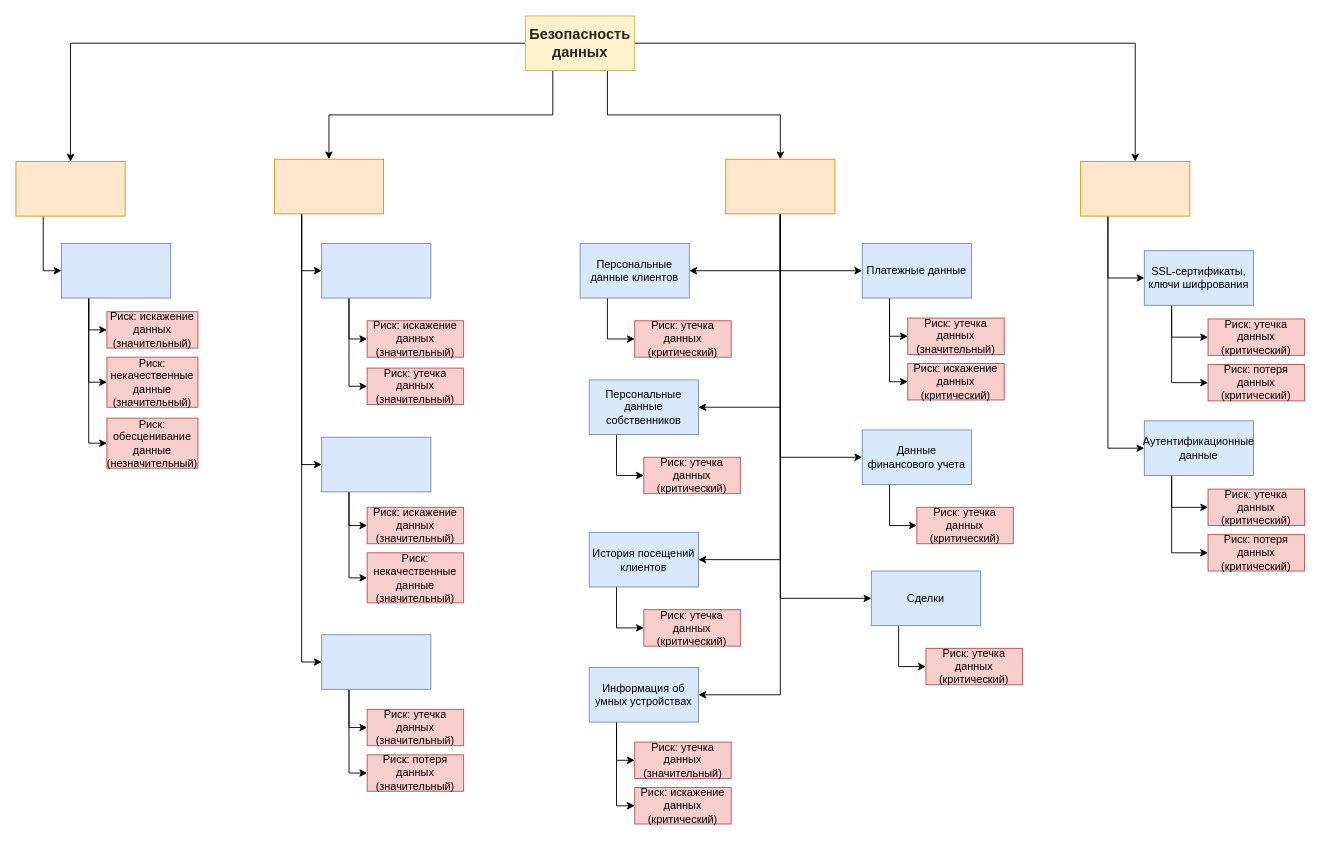
The diagram is 1320 pixels wide and 841 high, and some of its shapes have lost their labels. The centre of each missing label's shape, as x and y in pixels:
"Внутренние данные" goes at [328,186].
"Данные о запланированных работах, история проведенных работ" goes at [376,464].
"Данные о недвижимости (для подбора и бронирования)" goes at [116,270].
"Информация об услугах ЖКХ" goes at [376,270].
"Конфиденциальные данные" goes at [780,186].
"Публичные данные" goes at [70,188].
"Секретные данные" goes at [1135,188].
"Технические логи и метрики" goes at [376,661].
